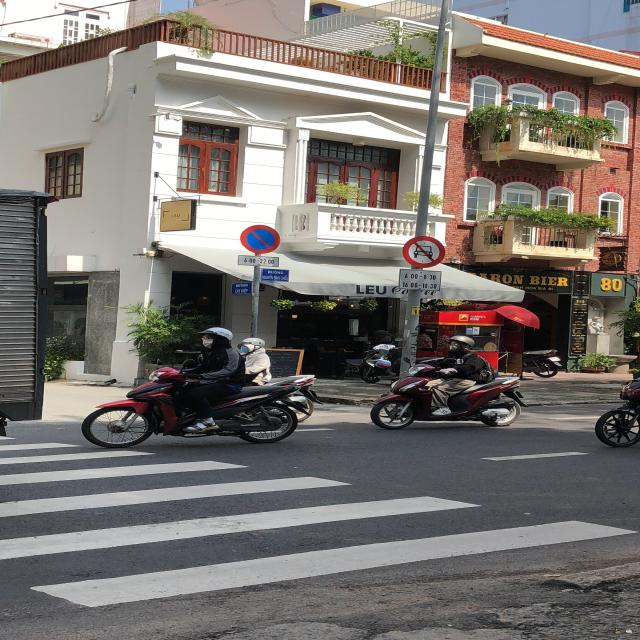Bien bao cam do xe: (239, 222, 286, 256)
Bien bao cam xe oto: (399, 233, 451, 267)
